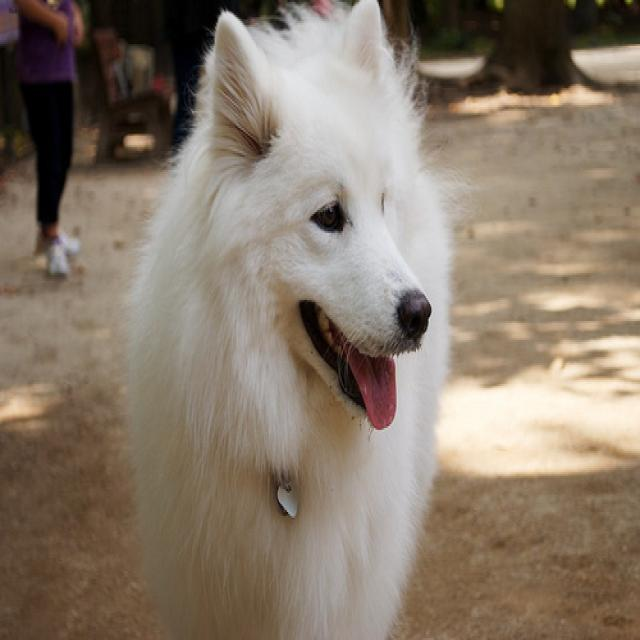dog-samoyed: (109, 2, 472, 636)
